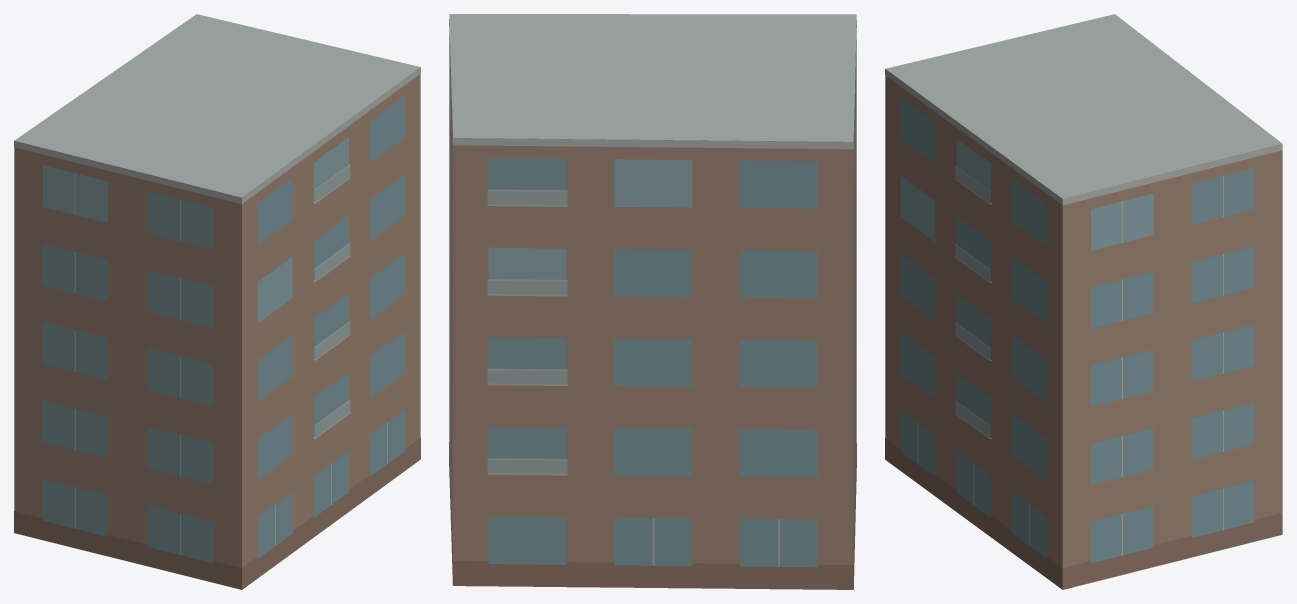
File: survey-upis-33018566.glb
3 renders of one model, left to right at view 1: azimuth 30°, elevation 25°; view 2: azimuth 150°, elevation 25°; view 3: azimuth 270°, elevation 25°, orthographic. The views are drawn at different scales.
Parts seen in each view (by area): view 1: survey-upis-33018566.tmp; view 2: survey-upis-33018566.tmp; view 3: survey-upis-33018566.tmp.
Part boxes in pixels (x1,y1,x2,y2): survey-upis-33018566.tmp: [14, 14, 420, 589]; survey-upis-33018566.tmp: [449, 14, 856, 589]; survey-upis-33018566.tmp: [885, 14, 1282, 589].
Bounding box in the file's own units: 15.03 × 14.8 × 13.65.
